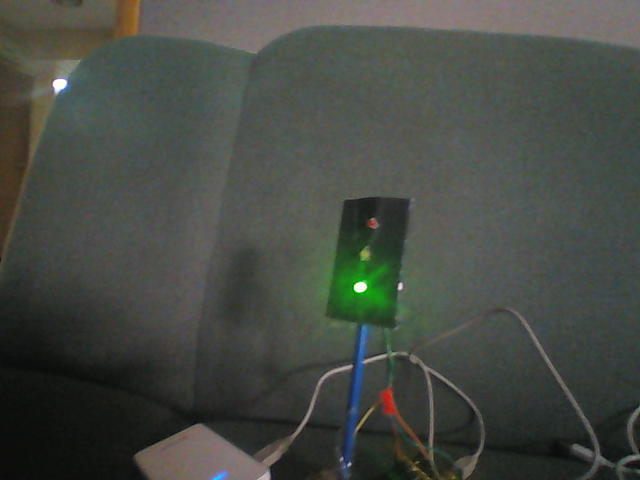green_sign: (322, 193, 415, 333)
